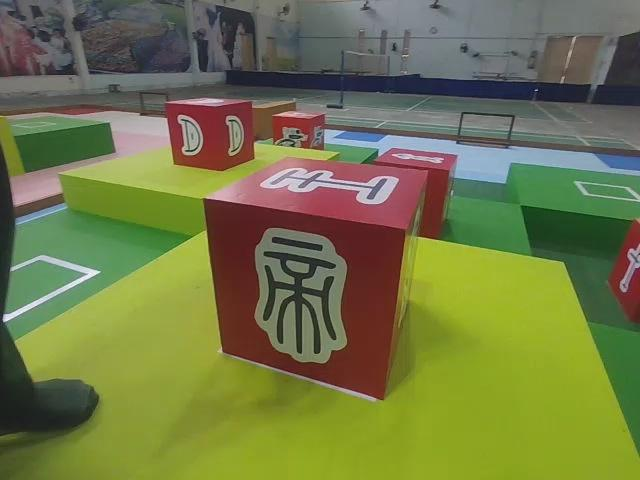R1: (270, 106, 328, 156)
R2 Fake: (201, 160, 428, 401)
R2 Real: (163, 93, 257, 172), (606, 212, 640, 325)
